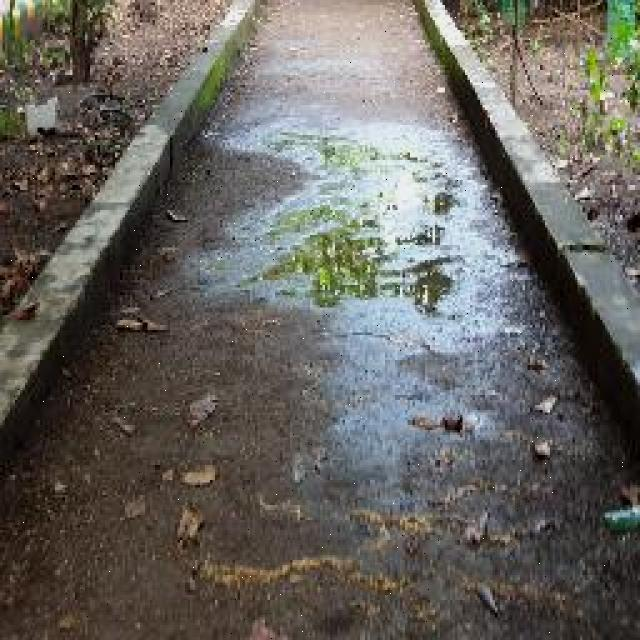waterlogging: (220, 105, 478, 345)
